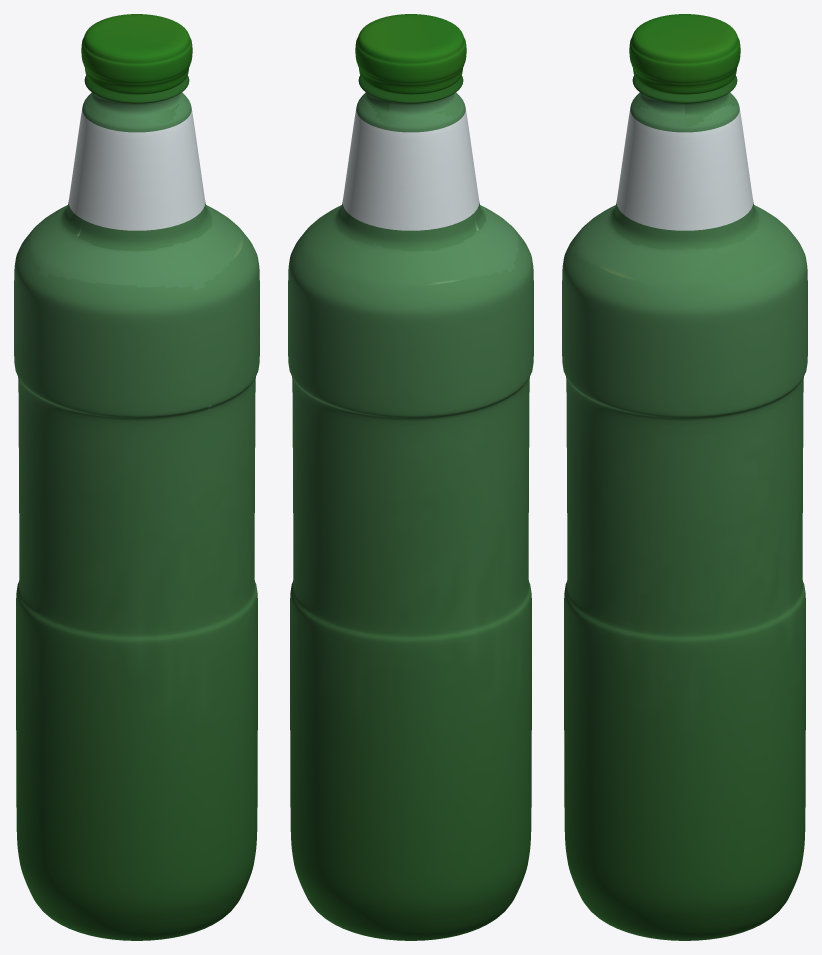
Rendered from WaterBottle2.glb.
3 views of the same model, side by side, from view 1: azimuth 30°, elevation 25°; view 2: azimuth 150°, elevation 25°; view 3: azimuth 270°, elevation 25° (orthographic).
Parts seen in each view (by area): view 1: Veroni; view 2: Veroni; view 3: Veroni.
Part boxes in pixels (box(x1,y1,x2,y2)): Veroni: box(14, 14, 259, 940); Veroni: box(288, 14, 533, 940); Veroni: box(562, 14, 807, 940).
Bounding box in the file's own units: 0.5459 × 2.13 × 0.5459.
1 material, 1 textured.
